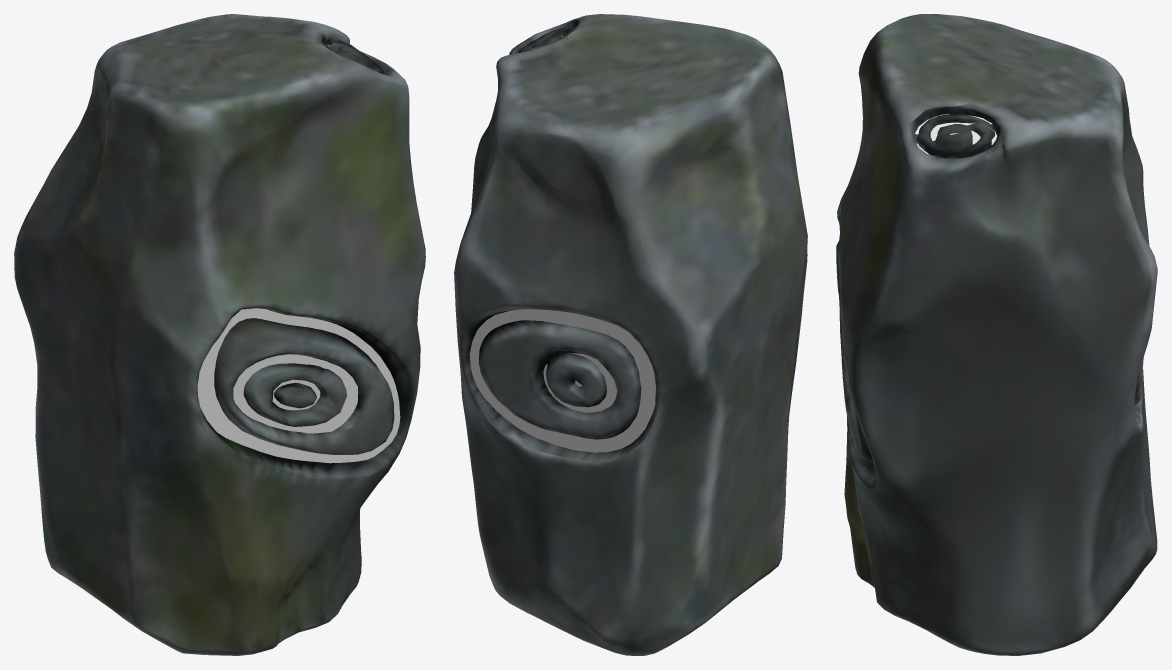
The model's file is Stone1.fbx.
The picture shows the model from 3 angles, left to right: view 1: azimuth 30°, elevation 25°; view 2: azimuth 150°, elevation 25°; view 3: azimuth 270°, elevation 25°; orthographic projection. The views are drawn at different scales.
Parts seen in each view (by area): view 1: Stone1, Plane.001, Plane; view 2: Stone1, Plane.002; view 3: Stone1, Plane.003.
Part boxes in pixels (x1,y1,x2,y2): Stone1: [14, 14, 425, 655]; Plane.001: [197, 308, 400, 463]; Plane: [233, 354, 358, 433]; Stone1: [454, 14, 807, 655]; Plane.002: [469, 309, 655, 452]; Stone1: [836, 14, 1157, 655]; Plane.003: [915, 114, 997, 154].
Size of the model in its own units: 88.44 by 162 by 86.84.
1 material, 1 textured.
